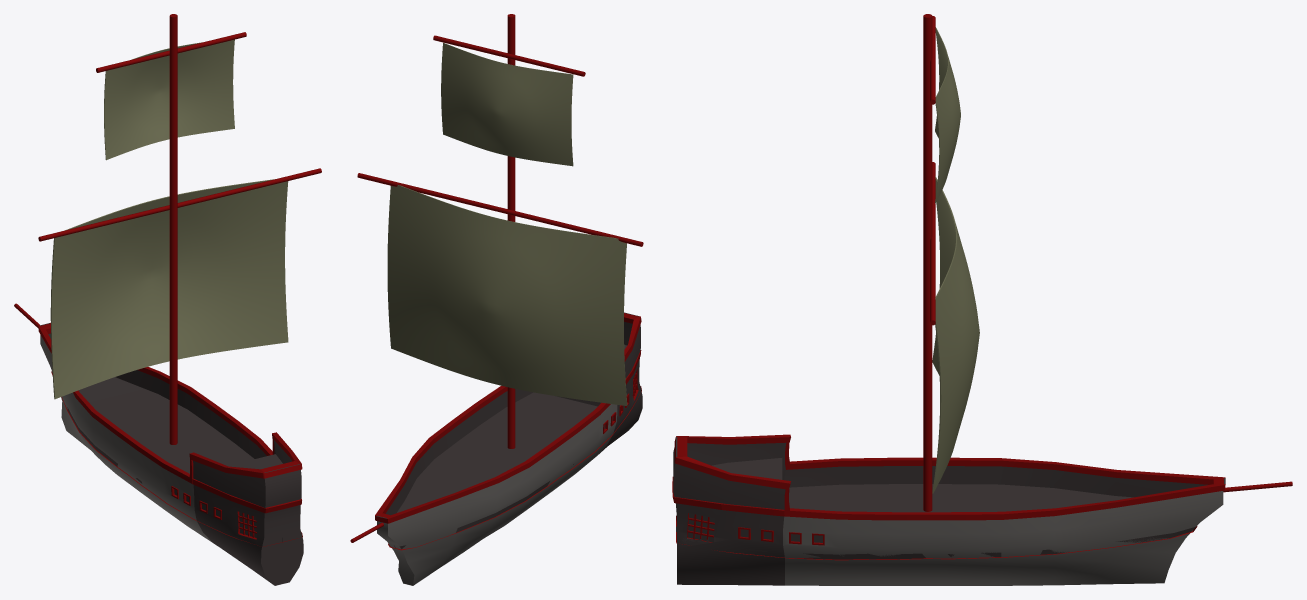
Rendered from ArmedBoat.fbx.
3 renders of one model, left to right at view 1: azimuth 30°, elevation 25°; view 2: azimuth 150°, elevation 25°; view 3: azimuth 270°, elevation 25°, orthographic. The views are drawn at different scales.
Parts seen in each view (by area): view 1: Plane, Cube, Cylinder.003, Cylinder.007, Cylinder.006; view 2: Plane, Cube, Cylinder.007, Cylinder.003, Cylinder.006; view 3: Cube, Plane, Cylinder.003, Cylinder.007.
Boxes of the visible parts, x1,y1,x2,y2 form: Plane: (50, 39, 288, 399); Cube: (38, 322, 303, 585); Cylinder.003: (169, 14, 177, 444); Cylinder.007: (38, 168, 321, 241); Cylinder.006: (96, 32, 246, 72); Plane: (387, 43, 627, 405); Cube: (375, 312, 642, 585); Cylinder.007: (357, 173, 643, 246); Cylinder.003: (507, 14, 515, 448); Cylinder.006: (433, 35, 585, 76); Cube: (672, 434, 1225, 585); Plane: (932, 27, 979, 493); Cylinder.003: (923, 14, 932, 511); Cylinder.007: (930, 162, 935, 325).
Bounding box in the file's own units: 573 × 952 × 948.
